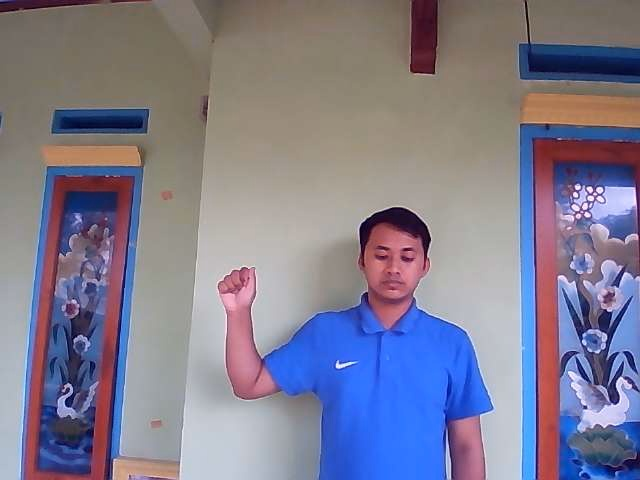A: (216, 265, 259, 309)
